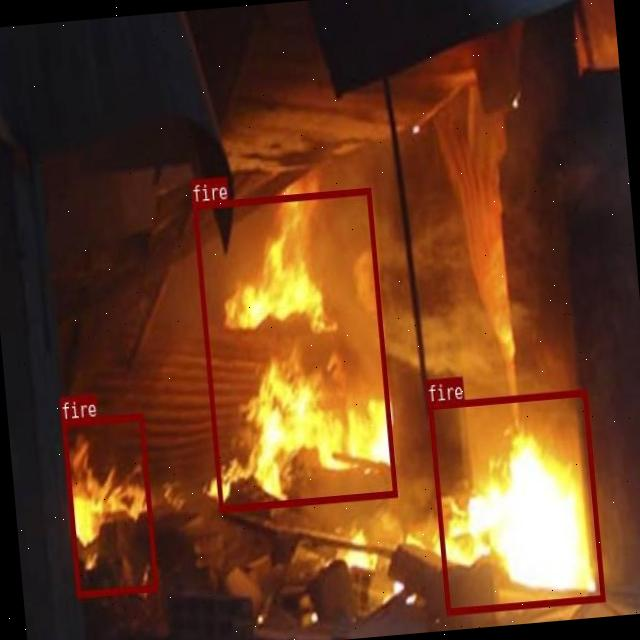fire: (192, 186, 396, 512), (426, 388, 604, 613), (60, 412, 156, 596)
